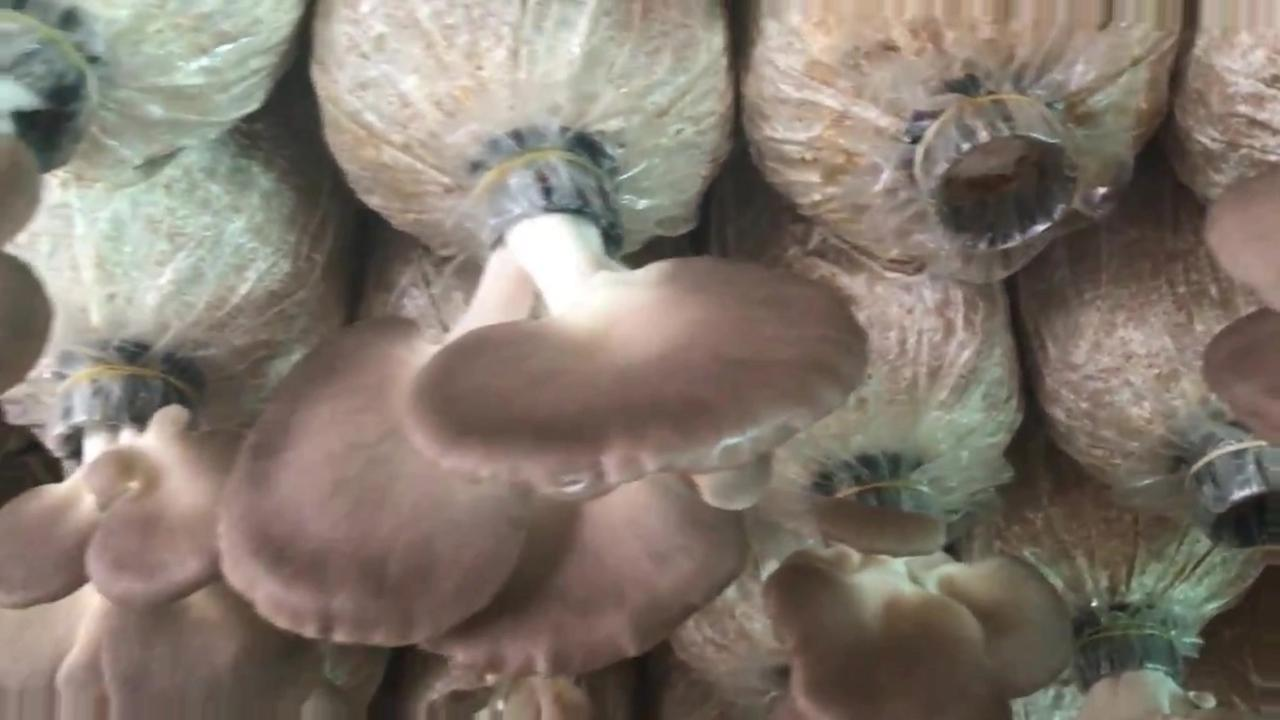nam: (216, 160, 864, 669), (2, 366, 322, 720), (766, 483, 1069, 720), (1, 11, 102, 398), (1202, 165, 1279, 439)
